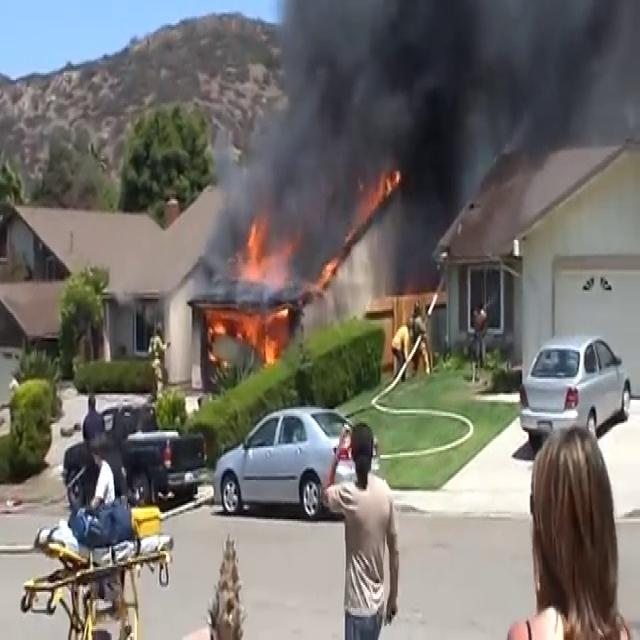Fire: (215, 221, 292, 367)
Smoke: (216, 0, 627, 268)
